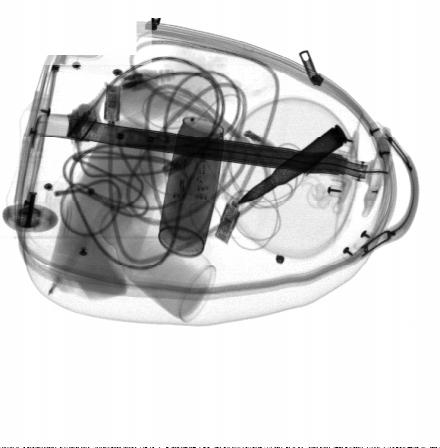Bullet: (236, 123, 349, 204)
